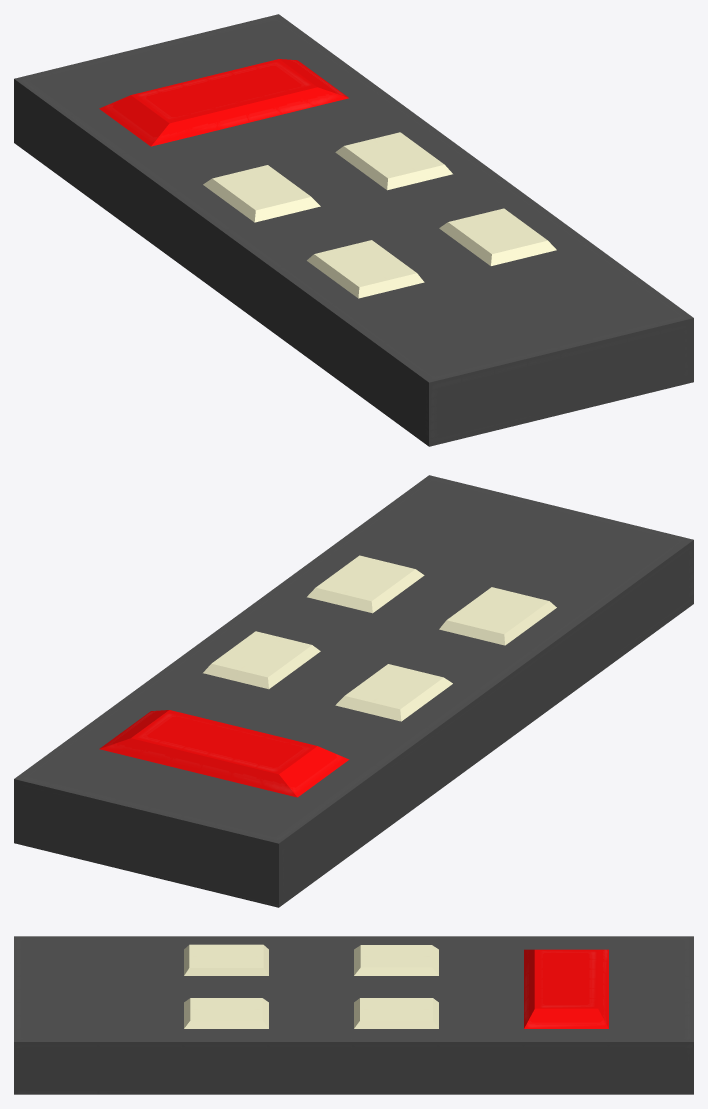
The model's file is JBayer_TVRemote.fbx.
3 renders of one model, top to bottom at view 1: azimuth 30°, elevation 25°; view 2: azimuth 150°, elevation 25°; view 3: azimuth 270°, elevation 25°, orthographic. The views are drawn at different scales.
Parts seen in each view (by area): view 1: Cube; view 2: Cube; view 3: Cube.
Part boxes in pixels (x1=…): Cube: x1=14, y1=14, x2=693, y2=446; Cube: x1=14, y1=475, x2=693, y2=907; Cube: x1=14, y1=936, x2=693, y2=1094.
Size of the model in its own units: 114 by 31.4 by 309.
1 material, 1 textured.
